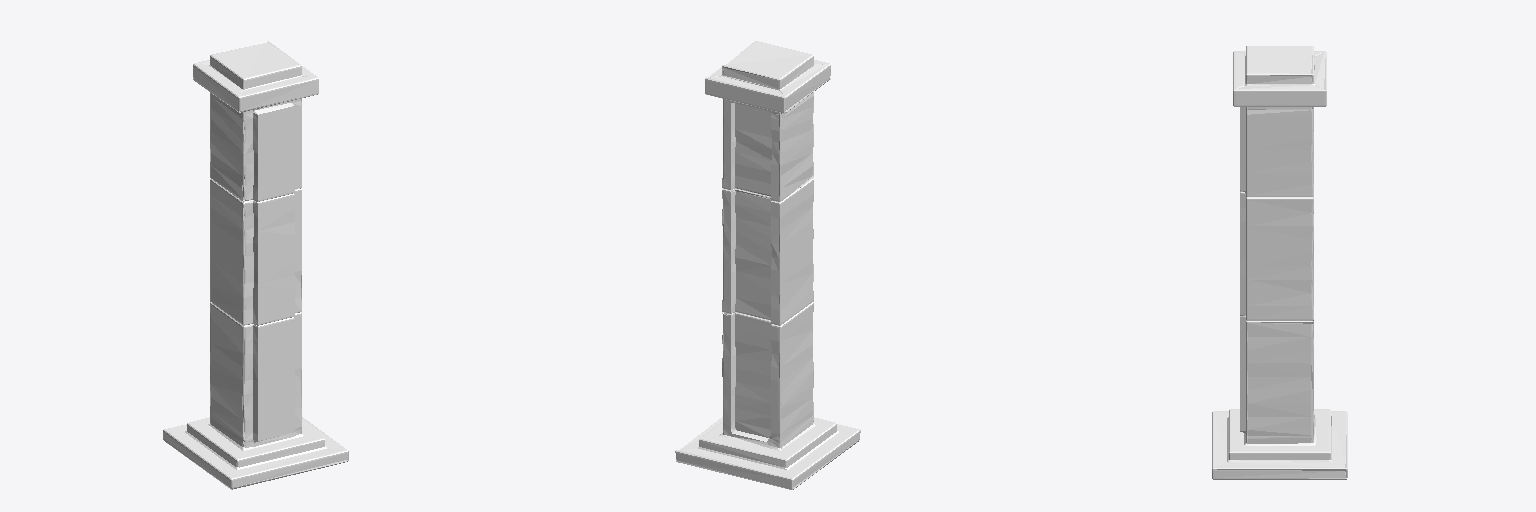
The model's file is stone_pillar.obj.
3 renders of one model, left to right at view 1: azimuth 30°, elevation 25°; view 2: azimuth 150°, elevation 25°; view 3: azimuth 270°, elevation 25°, orthographic.
Visible parts, largest first — view 1: obj1; view 2: obj1; view 3: obj1.
Part boxes in pixels (left/top/right/bottom): obj1: left=163, top=41, right=348, bottom=489; obj1: left=675, top=41, right=860, bottom=489; obj1: left=1212, top=46, right=1347, bottom=479.
Bounding box in the file's own units: 100 × 317 × 100.